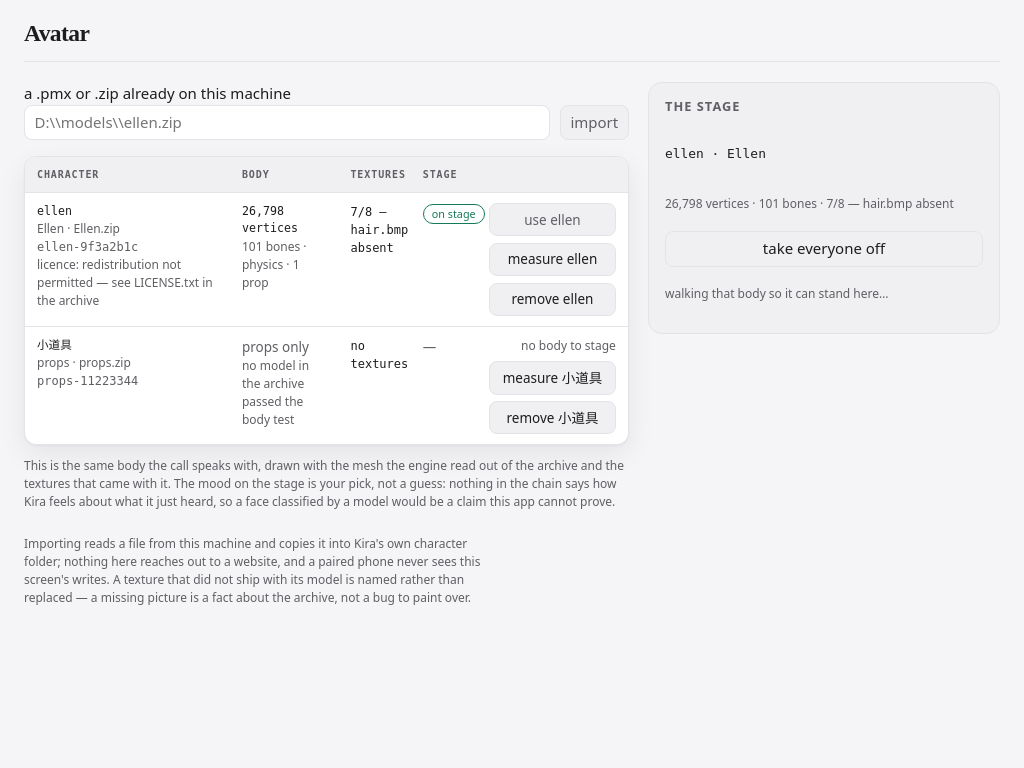
Test: AvatarScreen › takes everyone off the stage with a real null, not an empty string
Click the button "take everyone off".
click(824, 249)  # box [665, 231, 983, 267]
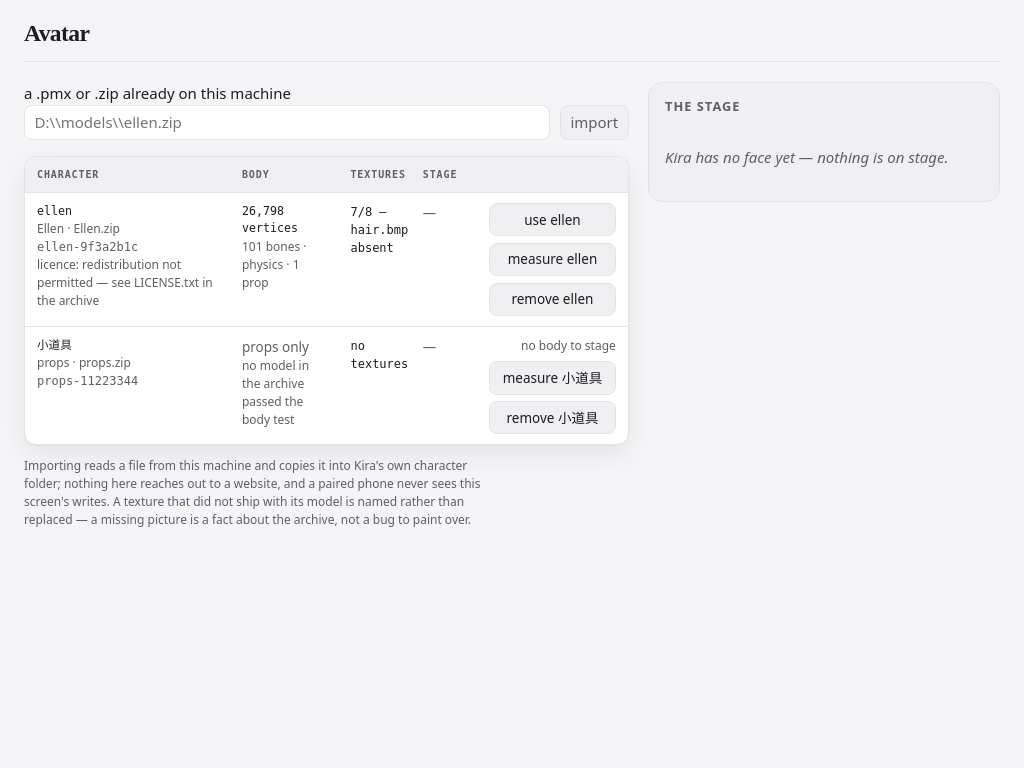
expect the text "Kira has no face yet — nothing is on stage." is shown: met, box [665, 146, 983, 168]
